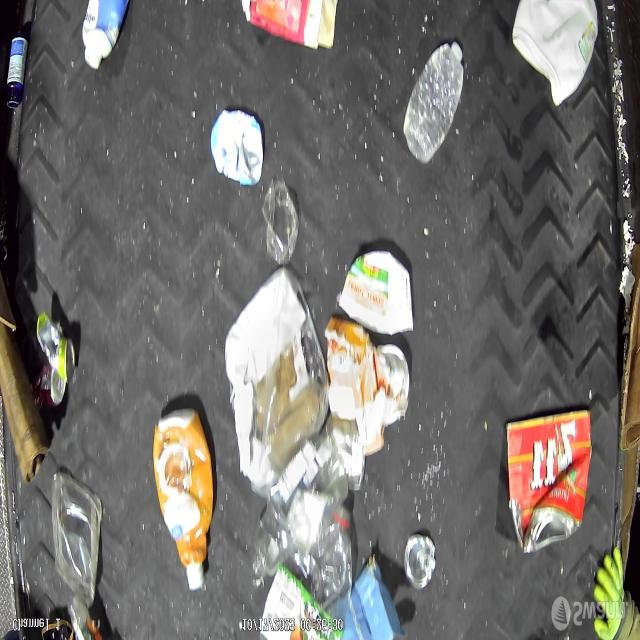can: (36, 311, 76, 384), (403, 534, 436, 592), (31, 363, 66, 411)
non_white_jug: (153, 408, 212, 592)
plastic_bottle: (404, 38, 468, 166)
